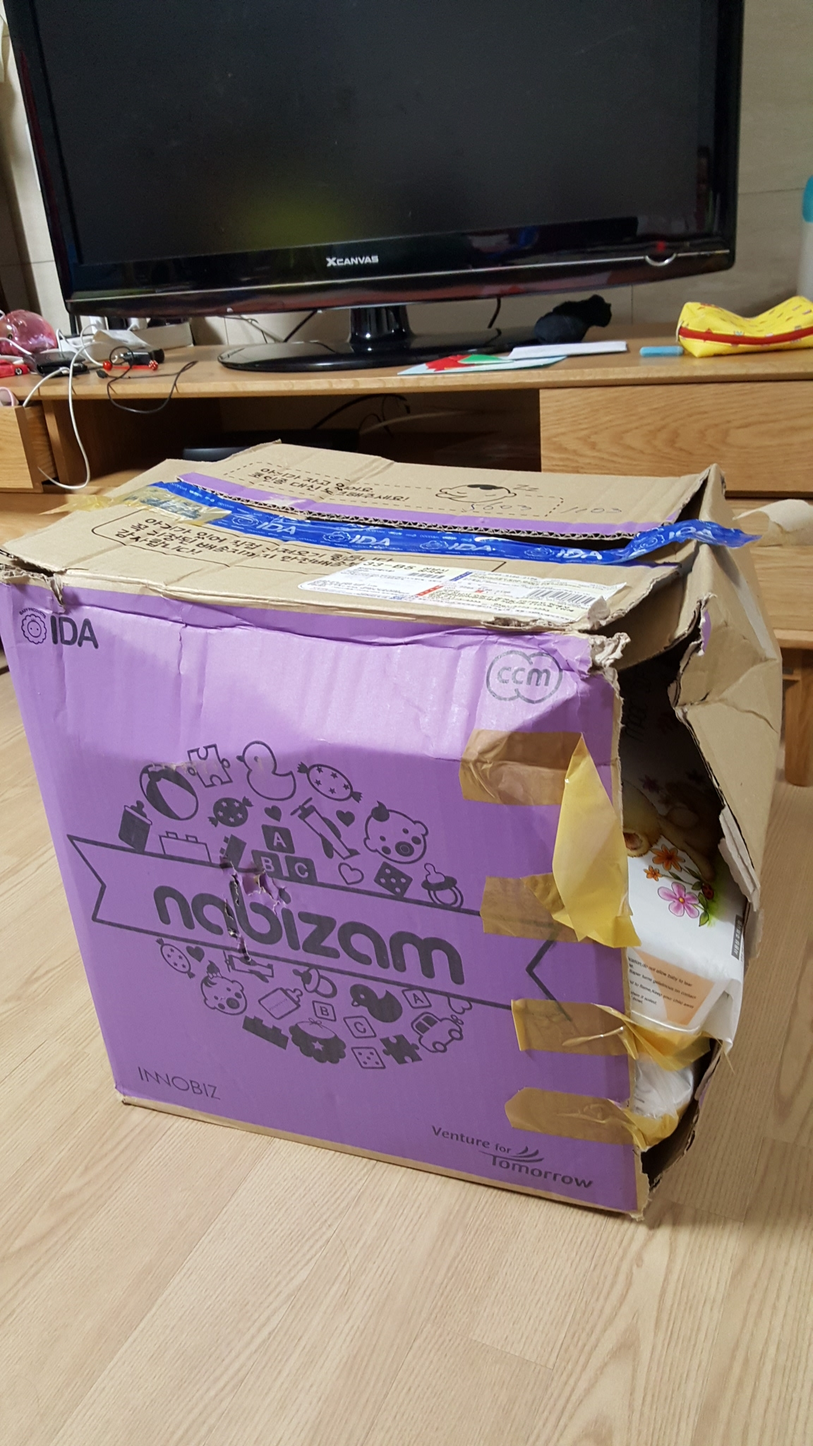damaged package: (554, 463, 761, 1200)
